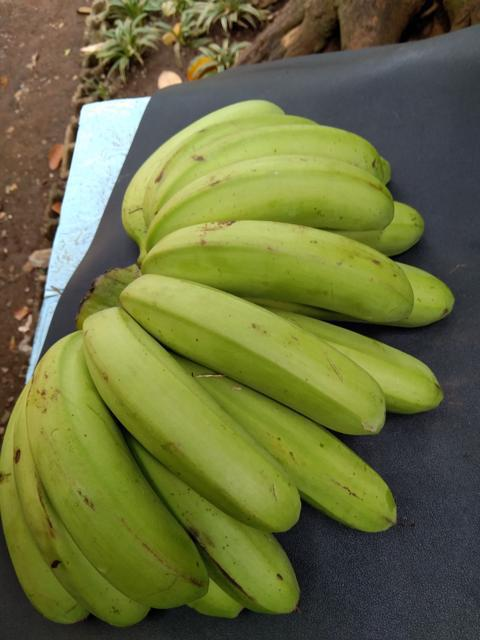freshunripe: (80, 306, 306, 534), (120, 273, 397, 429), (144, 152, 400, 238)
unripe: (20, 329, 219, 602), (120, 210, 418, 326), (245, 379, 411, 537), (160, 462, 313, 622)
